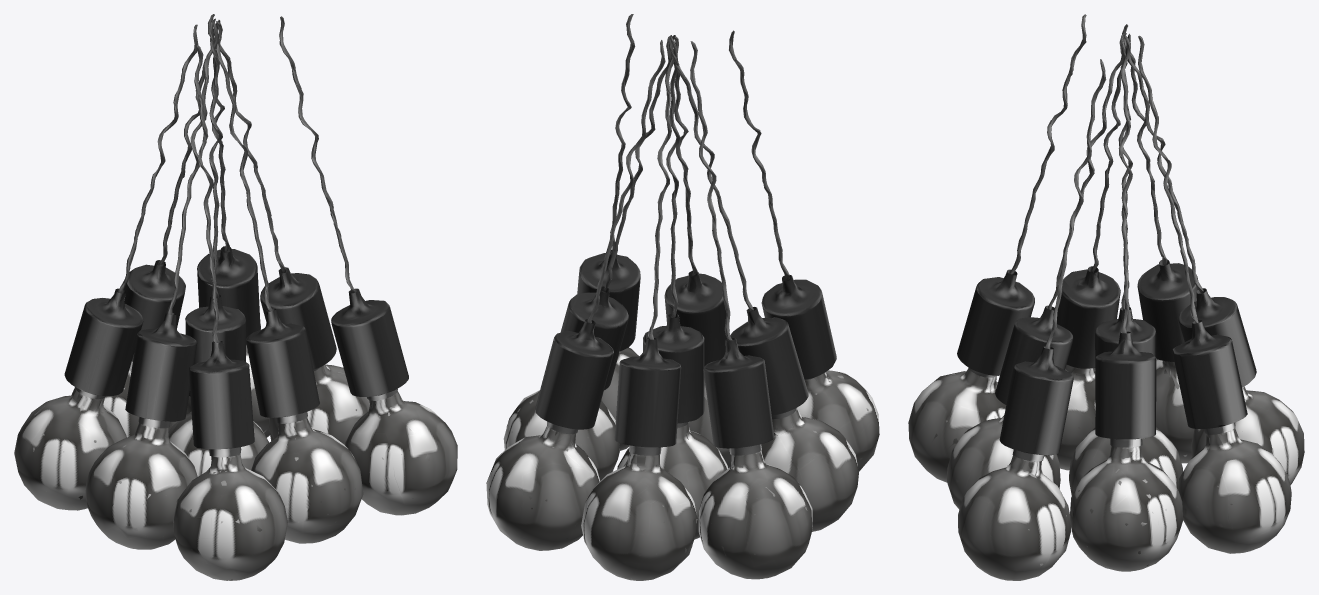
The picture shows the model from 3 angles, left to right: view 1: azimuth 30°, elevation 25°; view 2: azimuth 150°, elevation 25°; view 3: azimuth 270°, elevation 25°; orthographic projection.
Parts seen in each view (by area): view 1: glass_001, solid_001, solid_002, solid_004; view 2: glass_001, solid_001, solid_002, solid_004; view 3: glass_001, solid_001, solid_002, solid_004.
Boxes of the visible parts, x1=… form: glass_001: x1=14, y1=345, x2=457, y2=580; solid_001: x1=64, y1=246, x2=408, y2=449; solid_002: x1=118, y1=14, x2=355, y2=342; solid_004: x1=76, y1=361, x2=397, y2=457; glass_001: x1=486, y1=347, x2=879, y2=580; solid_001: x1=535, y1=249, x2=836, y2=448; solid_002: x1=587, y1=14, x2=790, y2=340; solid_004: x1=547, y1=378, x2=812, y2=455; glass_001: x1=908, y1=359, x2=1304, y2=580; solid_001: x1=957, y1=259, x2=1256, y2=455; solid_002: x1=1010, y1=14, x2=1203, y2=349; solid_004: x1=968, y1=367, x2=1243, y2=461.
Size of the model in its own units: 1.06 by 1.47 by 1.07.
1 material, 1 textured.
